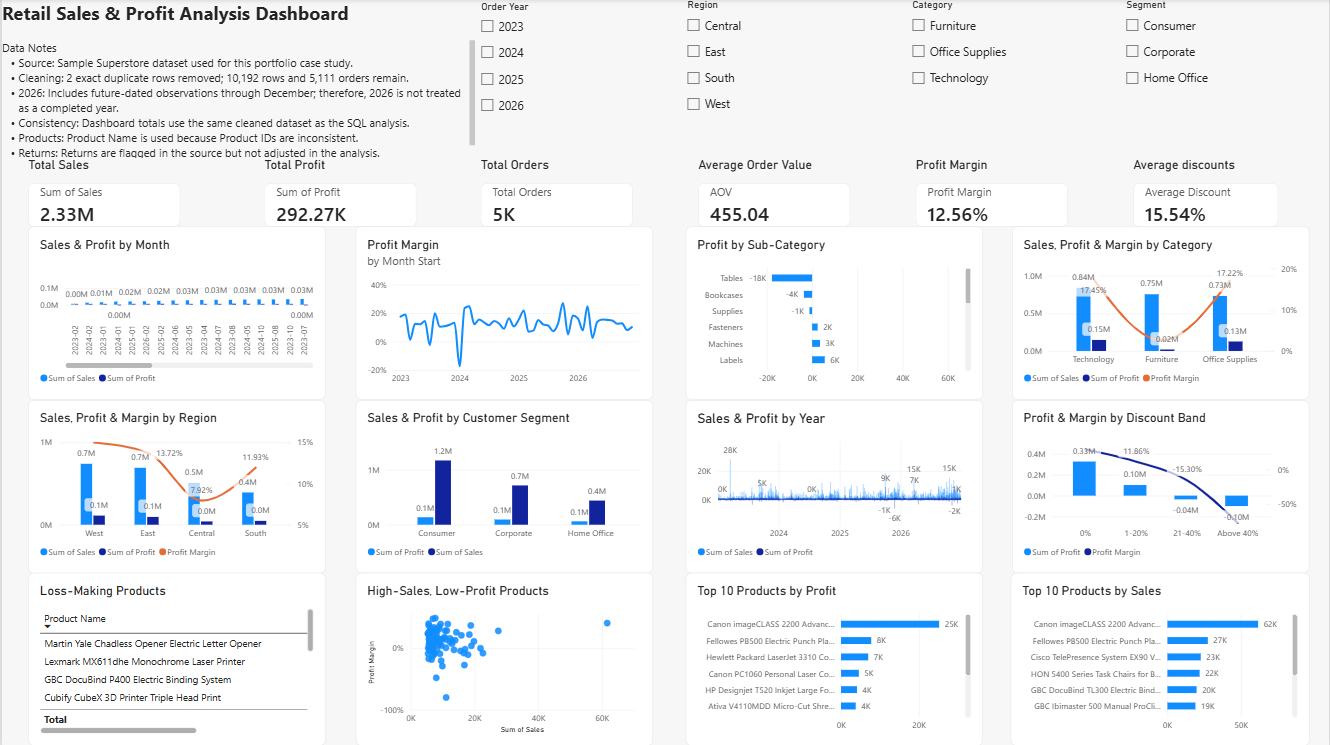

The dashboard page shown, as its layout file describes it:
{"tool":"powerbi","page":{"name":"Overview","canvas":[1921,1080],"ordinal":0},"visuals":[{"type":"cardVisual","title":"Total Sales","fields":{"Data":["Sum(Superstore_Cleaned csv.Sales)"]},"box":[37.5,230,220,100],"z":0},{"type":"cardVisual","title":"Total Profit","fields":{"Data":["Sum(Superstore_Cleaned csv.Profit)"]},"box":[379.5,230,220,100],"z":1000},{"type":"cardVisual","title":"Total Orders","fields":{"Data":["Superstore_Cleaned csv.Total Orders"]},"box":[694,230,220,100],"z":2000},{"type":"cardVisual","title":"Average Order Value","fields":{"Data":["Superstore_Cleaned csv.AOV"]},"box":[1008.5,230,220,100],"z":3000},{"type":"cardVisual","title":"Profit Margin","fields":{"Data":["Superstore_Cleaned csv.Profit Margin"]},"box":[1323,230,220,100],"z":4000},{"type":"clusteredColumnChart","title":"Sales & Profit by Year","fields":{"Category":["Superstore_Cleaned csv.Order Date.Variation.Date Hierarchy.Year"],"Y":["Sum(Superstore_Cleaned csv.Sales)","Sum(Superstore_Cleaned csv.Profit)"]},"box":[990,580,430,250],"z":5000},{"type":"lineClusteredColumnComboChart","title":"Sales, Profit & Margin by Category","fields":{"Category":["Superstore_Cleaned csv.Category"],"Y":["Sum(Superstore_Cleaned csv.Sales)","Sum(Superstore_Cleaned csv.Profit)"],"Y2":["Superstore_Cleaned csv.Profit Margin"]},"box":[1462.5,330,430,250],"z":6000},{"type":"lineClusteredColumnComboChart","title":"Sales, Profit & Margin by Region","fields":{"Category":["Superstore_Cleaned csv.Region"],"Y":["Sum(Superstore_Cleaned csv.Sales)","Sum(Superstore_Cleaned csv.Profit)"],"Y2":["Superstore_Cleaned csv.Profit Margin"]},"box":[37.5,580,430,250],"z":7000},{"type":"clusteredColumnChart","title":"Sales & Profit by Customer Segment","fields":{"Category":["Superstore_Cleaned csv.Segment"],"Y":["Sum(Superstore_Cleaned csv.Profit)","Sum(Superstore_Cleaned csv.Sales)"]},"box":[512.5,580,430,250],"z":8000},{"type":"lineStackedColumnComboChart","title":"Profit & Margin by Discount Band","fields":{"Category":["Superstore_Cleaned csv.Discount Band"],"Y":["Sum(Superstore_Cleaned csv.Profit)"],"Y2":["Superstore_Cleaned csv.Profit Margin"]},"box":[1462.5,580,430,250],"z":9000},{"type":"tableEx","title":"Loss-Making Products","fields":{"Values":["Superstore_Cleaned csv.Product Name","Sum(Superstore_Cleaned csv.Profit)","Sum(Superstore_Cleaned csv.Sales)","Superstore_Cleaned csv.Profit Margin"]},"box":[37.5,830,430,250],"z":10000},{"type":"slicer","title":"Order Year","fields":{"Values":["Superstore_Cleaned csv.Order Year"]},"box":[685,2.5,300,180],"z":11000},{"type":"slicer","fields":{"Values":["Superstore_Cleaned csv.Region"]},"box":[985,0,325,177.5],"z":12000},{"type":"slicer","fields":{"Values":["Superstore_Cleaned csv.Category"]},"box":[1310,0,300,180],"z":13000},{"type":"slicer","fields":{"Values":["Superstore_Cleaned csv.Segment"]},"box":[1620,0,300,180],"z":14000},{"type":"textbox","box":[64,437,152,204],"z":15000},{"type":"textbox","box":[0,2.5,512.5,57.5],"z":16000},{"type":"cardVisual","title":"Average discounts","fields":{"Data":["Superstore_Cleaned csv.Average Discount"]},"box":[1637.5,230,210,100],"z":17000},{"type":"clusteredColumnChart","title":"Sales & Profit by Month","fields":{"Category":["Superstore_Cleaned csv.Order Month"],"Y":["Sum(Superstore_Cleaned csv.Sales)","Sum(Superstore_Cleaned csv.Profit)"]},"box":[37.5,330,430,250],"z":18000},{"type":"lineChart","fields":{"Category":["Superstore_Cleaned csv.Month Start"],"Y":["Superstore_Cleaned csv.Profit Margin"]},"box":[512.5,330,430,250],"z":19000},{"type":"clusteredBarChart","title":"Profit by Sub-Category","fields":{"Category":["Superstore_Cleaned csv.Sub-Category"],"Y":["Sum(Superstore_Cleaned csv.Profit)"]},"box":[990,330,430,250],"z":20000},{"type":"clusteredBarChart","title":"Top 10 Products by Sales","fields":{"Category":["Superstore_Cleaned csv.Product Name"],"Y":["Sum(Superstore_Cleaned csv.Sales)"]},"box":[1460,830,432.5,250],"z":21000},{"type":"clusteredBarChart","title":"Top 10 Products by Profit","fields":{"Category":["Superstore_Cleaned csv.Product Name"],"Y":["Sum(Superstore_Cleaned csv.Profit)"]},"box":[990,830,430,250],"z":22000},{"type":"scatterChart","title":"High-Sales, Low-Profit Products","fields":{"Category":["Superstore_Cleaned csv.Product Name"],"X":["Sum(Superstore_Cleaned csv.Sales)"],"Y":["Superstore_Cleaned csv.Profit Margin"]},"box":[512.5,830,430,250],"z":23000},{"type":"textbox","box":[0,60,685,170],"z":24000}]}

Visuals, with their boxes in screenshot pixels (x1, y1, x2, y2), scaled from the page's 1921x1080 canvas onto the 1330x745 screenshot:
"Total Sales" cardVisual: [26, 159, 178, 228]
"Total Profit" cardVisual: [263, 159, 415, 228]
"Total Orders" cardVisual: [480, 159, 633, 228]
"Average Order Value" cardVisual: [698, 159, 851, 228]
"Profit Margin" cardVisual: [916, 159, 1068, 228]
"Sales & Profit by Year" clusteredColumnChart: [685, 400, 983, 573]
"Sales, Profit & Margin by Category" lineClusteredColumnComboChart: [1013, 228, 1310, 400]
"Sales, Profit & Margin by Region" lineClusteredColumnComboChart: [26, 400, 324, 573]
"Sales & Profit by Customer Segment" clusteredColumnChart: [355, 400, 653, 573]
"Profit & Margin by Discount Band" lineStackedColumnComboChart: [1013, 400, 1310, 573]
"Loss-Making Products" tableEx: [26, 573, 324, 744]
"Order Year" slicer: [474, 2, 682, 126]
slicer - Superstore_Cleaned csv.Region: [682, 0, 907, 122]
slicer - Superstore_Cleaned csv.Category: [907, 0, 1115, 124]
slicer - Superstore_Cleaned csv.Segment: [1122, 0, 1329, 124]
textbox: [44, 301, 150, 442]
textbox: [0, 2, 355, 41]
"Average discounts" cardVisual: [1134, 159, 1279, 228]
"Sales & Profit by Month" clusteredColumnChart: [26, 228, 324, 400]
lineChart - Superstore_Cleaned csv.Month Start x Superstore_Cleaned csv.Profit Margin: [355, 228, 653, 400]
"Profit by Sub-Category" clusteredBarChart: [685, 228, 983, 400]
"Top 10 Products by Sales" clusteredBarChart: [1011, 573, 1310, 744]
"Top 10 Products by Profit" clusteredBarChart: [685, 573, 983, 744]
"High-Sales, Low-Profit Products" scatterChart: [355, 573, 653, 744]
textbox: [0, 41, 474, 159]
